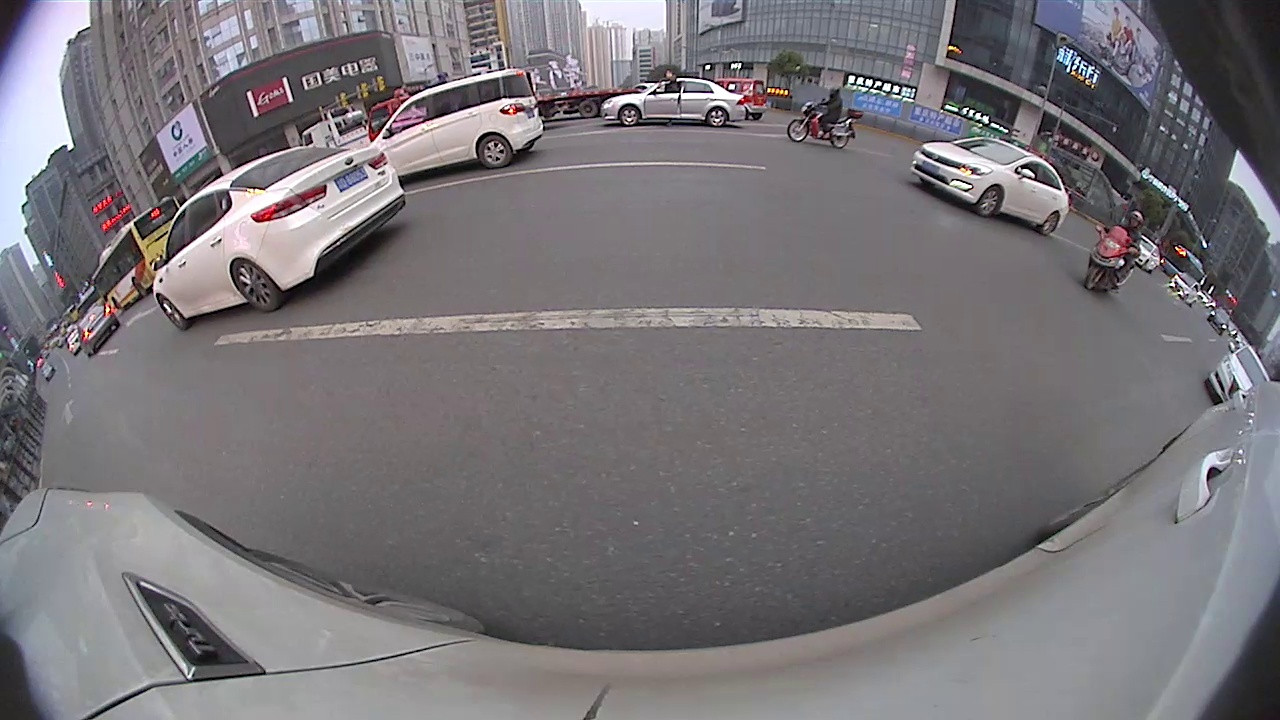bus: (91, 197, 190, 320)
car: (150, 133, 409, 336), (373, 67, 543, 187), (914, 133, 1074, 240), (603, 77, 744, 128), (1211, 344, 1274, 418), (79, 300, 119, 358)
front: (154, 294, 192, 334), (975, 184, 1002, 220), (785, 115, 813, 143), (617, 103, 642, 130)
rear: (230, 258, 283, 315), (477, 134, 514, 169), (1037, 211, 1060, 238), (706, 107, 729, 129), (577, 99, 600, 119), (828, 133, 852, 149)
rider: (1087, 209, 1147, 297), (786, 91, 857, 150)
